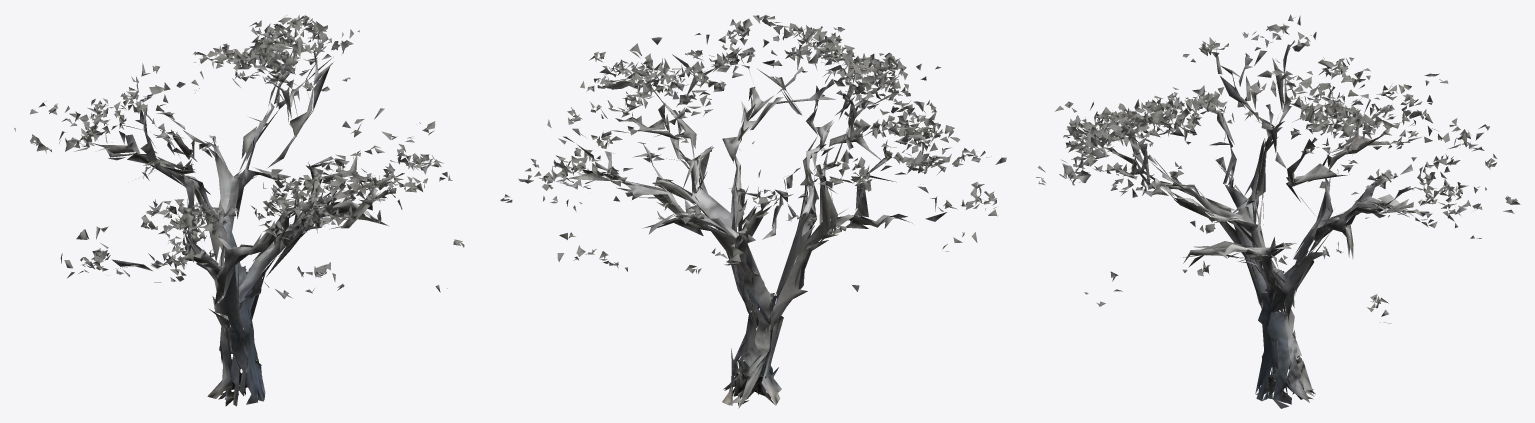
The model's file is acacia_espinhosa_morta.glb.
3 renders of one model, left to right at view 1: azimuth 30°, elevation 25°; view 2: azimuth 150°, elevation 25°; view 3: azimuth 270°, elevation 25°, orthographic. The views are drawn at different scales.
Visible parts, largest first — view 1: geometry_0; view 2: geometry_0; view 3: geometry_0.
Boxes of the visible parts, x1,y1,x2,y2 form: geometry_0: (14,15,464,406); geometry_0: (500,14,1006,408); geometry_0: (1036,14,1520,408).
Bounding box in the file's own units: 0.9186 × 0.7713 × 0.9757.
Materials: 1 (1 with a texture image).
